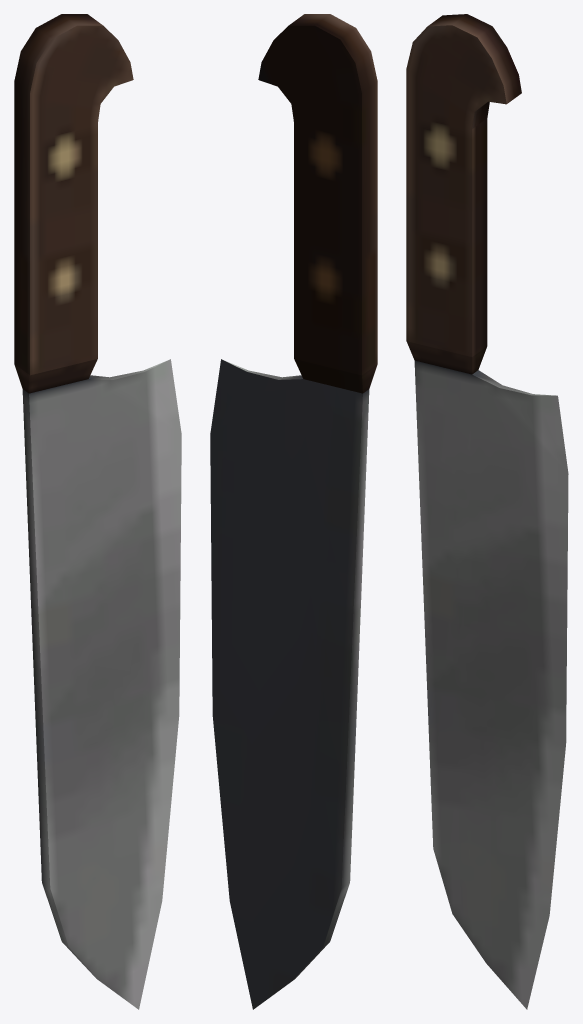
Rendered from cuchillo1.fbx.
3 views of the same model, side by side, from view 1: azimuth 30°, elevation 25°; view 2: azimuth 150°, elevation 25°; view 3: azimuth 330°, elevation 25° (orthographic). The views are drawn at different scales.
Visible parts, largest first — view 1: s4studio_mesh_1; view 2: s4studio_mesh_1; view 3: s4studio_mesh_1.
Boxes of the visible parts, <box> form: s4studio_mesh_1: <box>14,14,181,1009</box>; s4studio_mesh_1: <box>210,14,377,1009</box>; s4studio_mesh_1: <box>406,14,568,1009</box>.
Bounding box in the file's own units: 6.63 × 39.96 × 1.14.
1 material, 1 textured.
